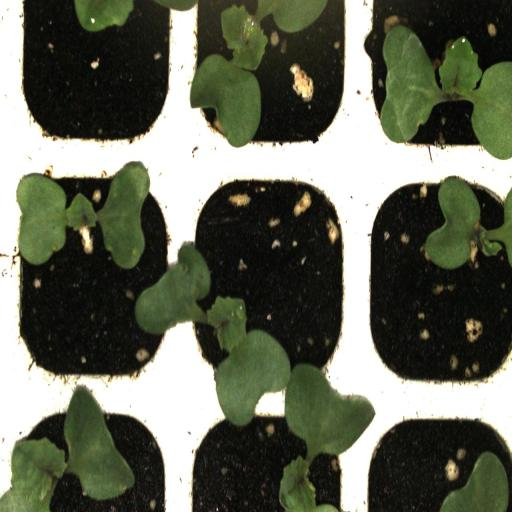Folha: (424, 176, 512, 270), (74, 0, 135, 32)
Germinacao: (0, 151, 182, 386), (186, 159, 354, 400), (357, 158, 512, 402), (178, 4, 358, 155), (358, 0, 512, 157)
